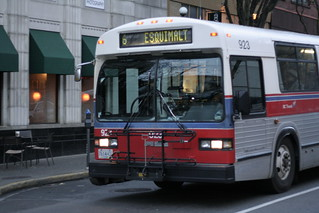bus: (88, 16, 319, 194)
